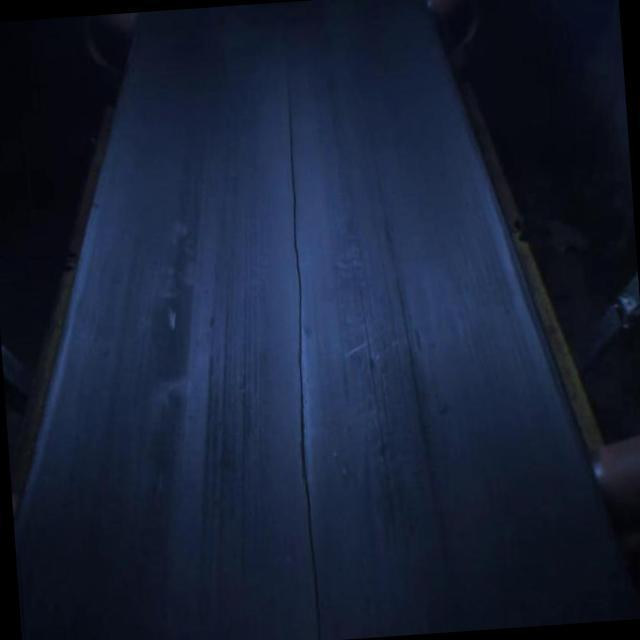Tear: (276, 68, 334, 640)
